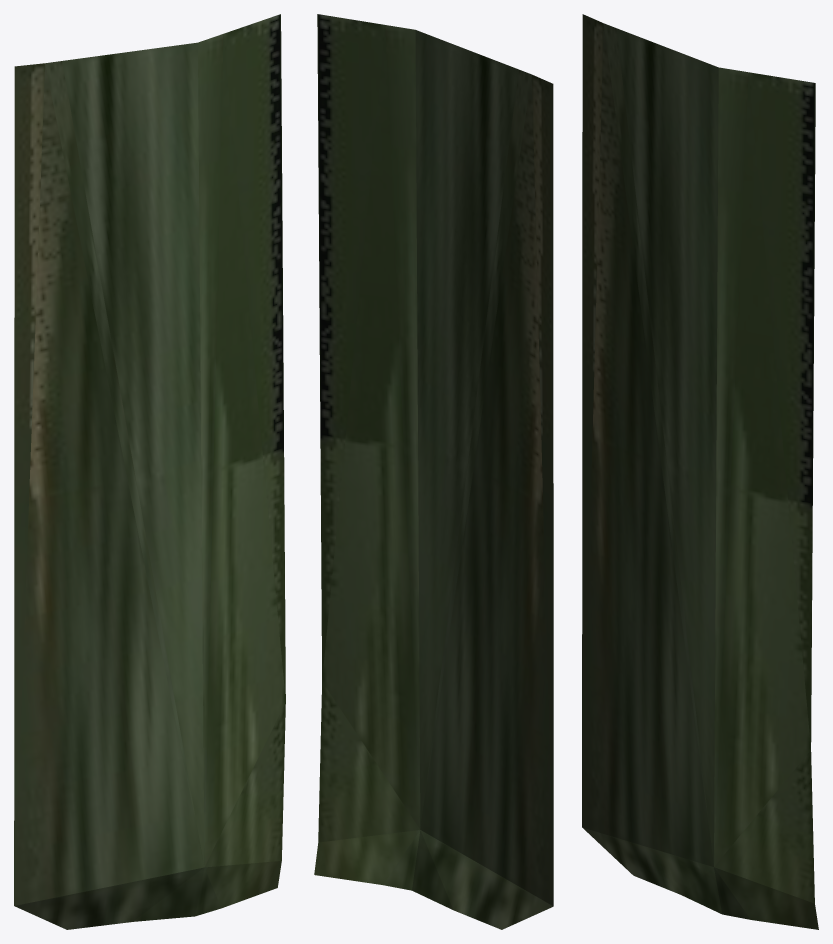
3 renders of one model, left to right at view 1: azimuth 30°, elevation 25°; view 2: azimuth 150°, elevation 25°; view 3: azimuth 330°, elevation 25°, orthographic. The views are drawn at different scales.
Bounding box in the file's own units: 1.79 × 5.9 × 0.3307.
1 material, 1 textured.
